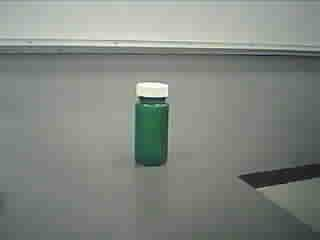Bottle C: (125, 77, 180, 174)
